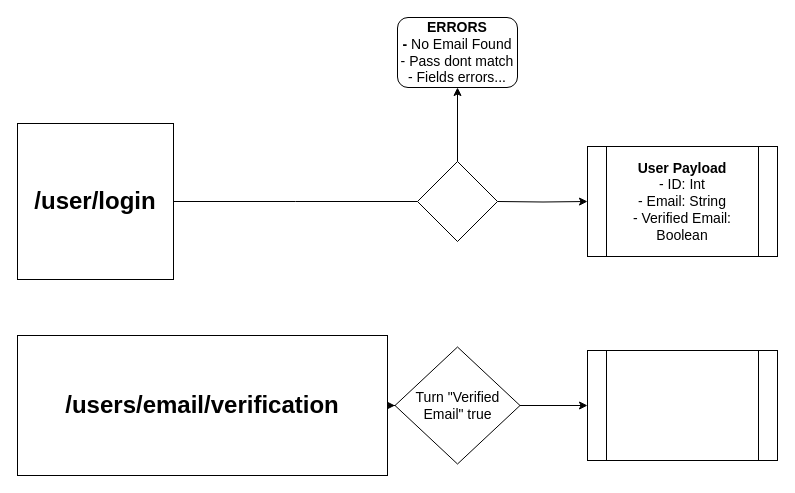
Image size: 795x493. Some labels were removed from this diagram. Here are the shapes that lost their labels. From the top down, the centre of each, then its label:
At (x=457, y=201): "Return a Token".
At (x=682, y=405): "Return New Token".
